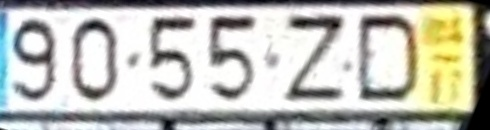0: (66, 14, 120, 106)
5: (203, 14, 260, 107), (148, 14, 203, 105)
9: (5, 15, 58, 109)
D: (353, 13, 424, 107)
Z: (280, 13, 348, 106)
